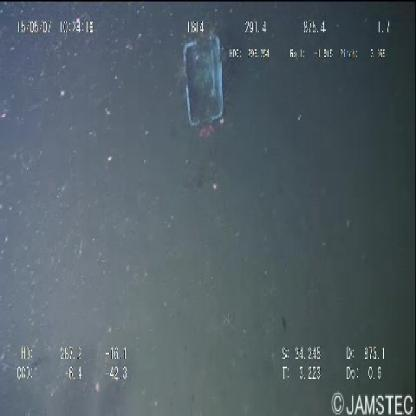Rác: (177, 22, 232, 137)
